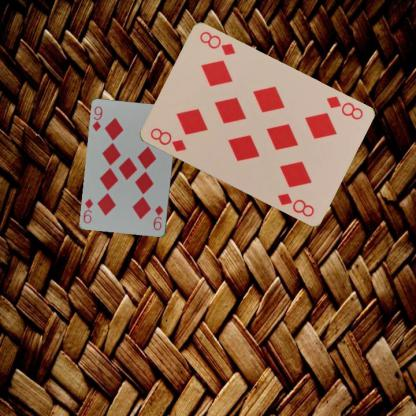8d: (323, 93, 364, 121), (148, 125, 188, 153)
9d: (150, 203, 164, 232), (90, 104, 104, 132)
